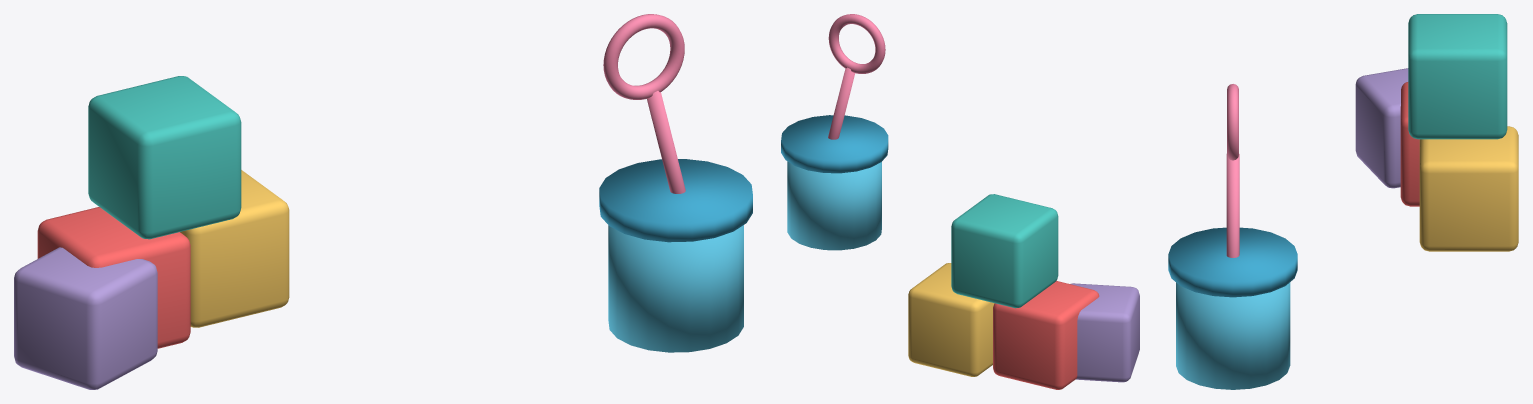
Rendered from room-brinquedos.glb.
The picture shows the model from 3 angles, left to right: view 1: azimuth 30°, elevation 25°; view 2: azimuth 150°, elevation 25°; view 3: azimuth 270°, elevation 25°; orthographic projection. The views are drawn at different scales.
Parts seen in each view (by area): view 1: Toys, Blower; view 2: Toys, Blower; view 3: Toys, Blower.
Boxes of the visible parts, x1,y1,x2,y2 form: Toys: (14,76,289,389); Blower: (599,14,752,352); Toys: (908,194,1139,389); Blower: (781,14,888,250); Toys: (1355,14,1518,251); Blower: (1168,84,1297,389).
Bounding box in the file's own units: 1.55 × 0.7686 × 0.92.
